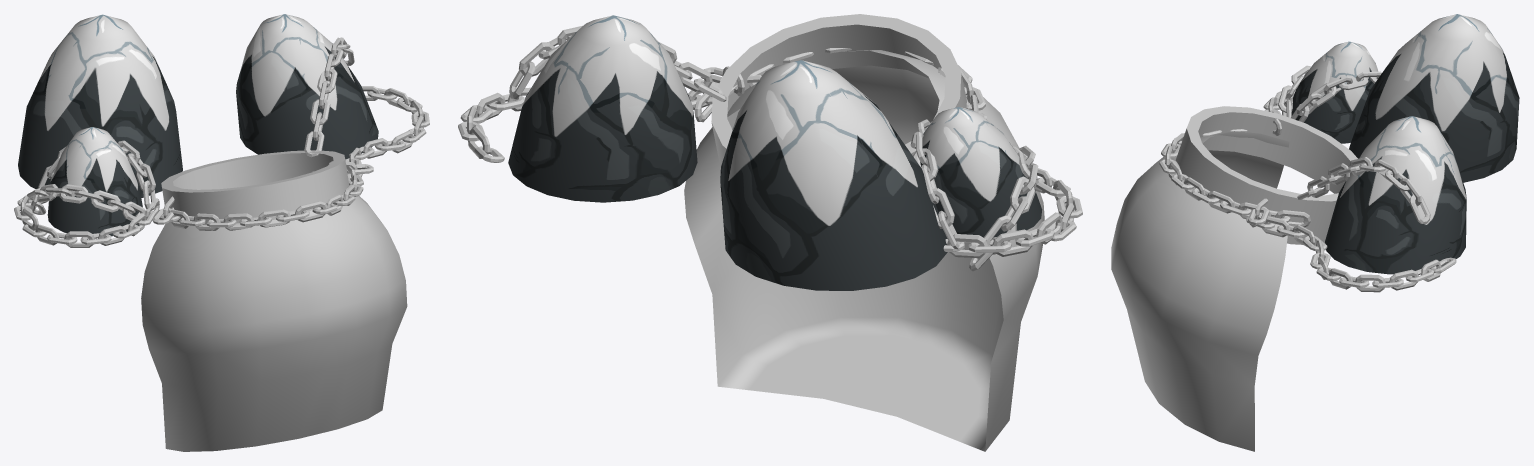
File: prison.fbx
3 views of the same model, side by side, from view 1: azimuth 30°, elevation 25°; view 2: azimuth 150°, elevation 25°; view 3: azimuth 270°, elevation 25° (orthographic). The views are drawn at different scales.
Parts seen in each view (by area): view 1: container, frost_rock_spike2, frost_rock_spike3, frost_rock_spike1; view 2: container, frost_rock_spike2, frost_rock_spike3, frost_rock_spike1; view 3: container, frost_rock_spike2, frost_rock_spike3, frost_rock_spike1.
Boxes of the visible parts, x1,y1,x2,y2 form: container: (14,37,429,451); frost_rock_spike2: (18,14,182,197); frost_rock_spike3: (236,14,378,159); frost_rock_spike1: (47,127,142,236); container: (458,14,1082,451); frost_rock_spike2: (720,60,947,290); frost_rock_spike3: (508,15,697,202); frost_rock_spike1: (916,107,1042,237); container: (1111,65,1456,451); frost_rock_spike2: (1349,14,1519,182); frost_rock_spike3: (1325,116,1466,274); frost_rock_spike1: (1291,41,1378,143).
Bounding box in the file's own units: 102 × 82.13 × 84.78.
